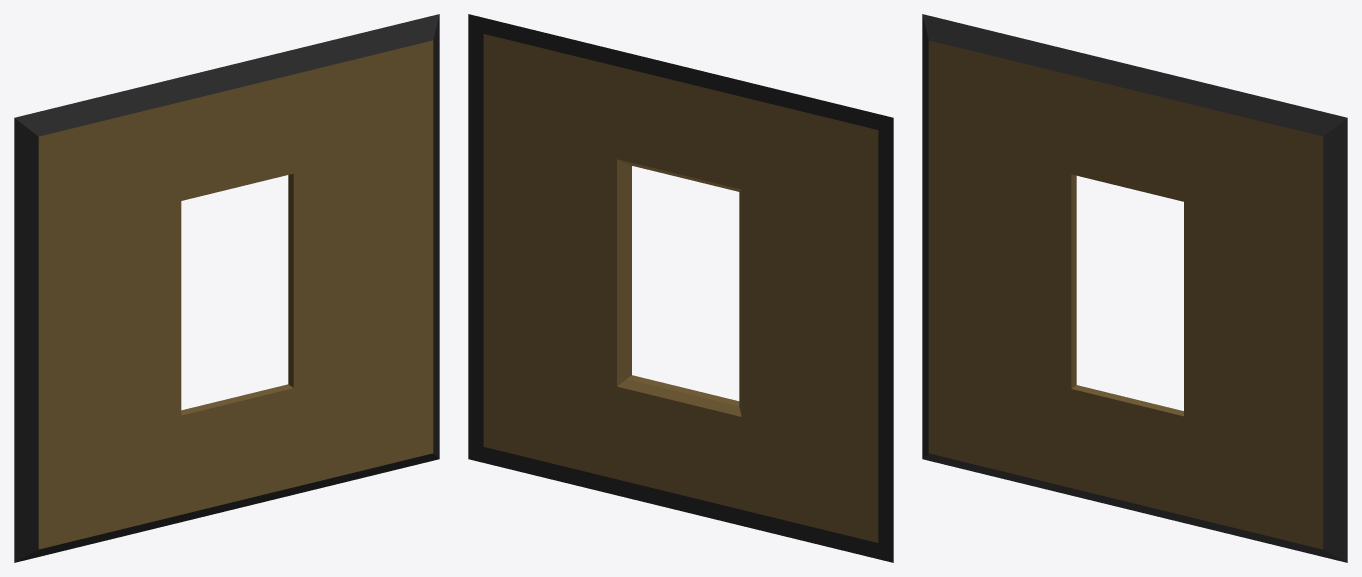
3 views of the same model, side by side, from view 1: azimuth 30°, elevation 25°; view 2: azimuth 150°, elevation 25°; view 3: azimuth 330°, elevation 25° (orthographic).
Visible parts, largest first — view 1: Body35, Body34; view 2: Body35, Body34; view 3: Body35, Body34.
Boxes of the visible parts, <box> form: Body35: <box>38,40,433,549</box>; Body34: <box>14,14,439,562</box>; Body35: <box>483,34,878,542</box>; Body34: <box>468,14,893,562</box>; Body35: <box>928,40,1323,549</box>; Body34: <box>922,14,1347,562</box>.
Bounding box in the file's own units: 138 × 138 × 5.
